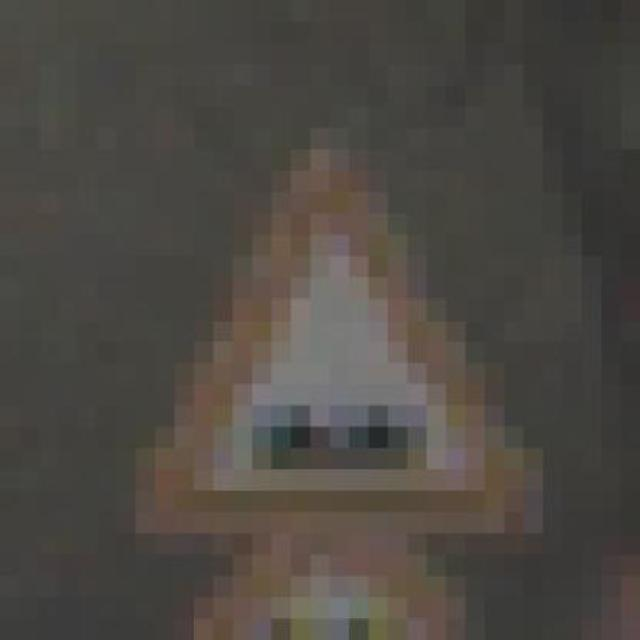Uneven Road: (97, 129, 581, 576)
